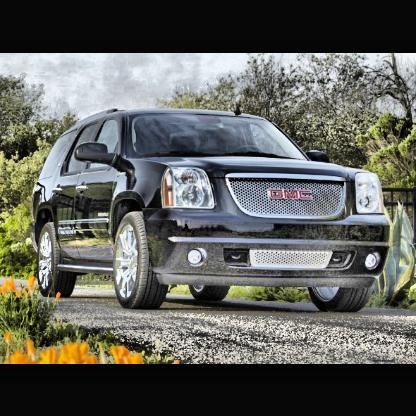GMC Yukon Hybrid SUV 2012: (34, 104, 392, 314)
